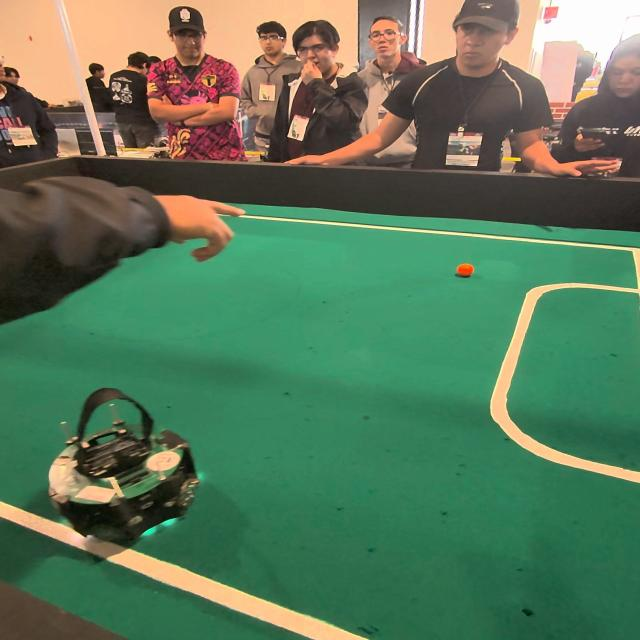Robot: (45, 375, 222, 543)
pelota: (448, 261, 480, 285)
